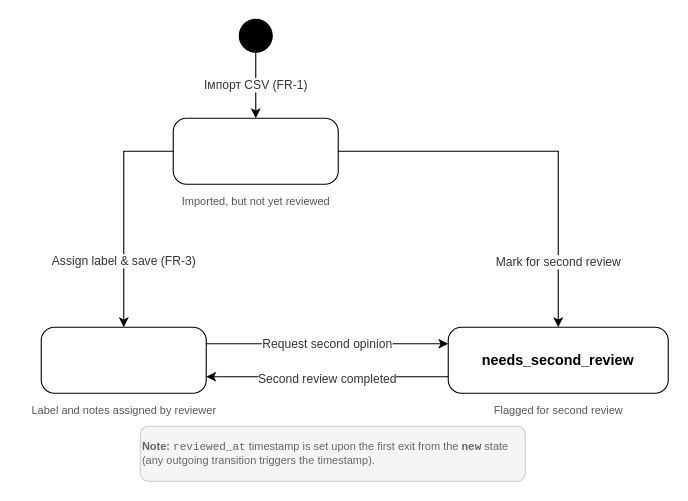
Some shapes in this 688 by 501 pixel diagram are drawn without their labels. Here are the shapes that lost their labels. From the top down, the centre of each, then its label:
At [255,150]: "new".
At [123,359]: "reviewed".
